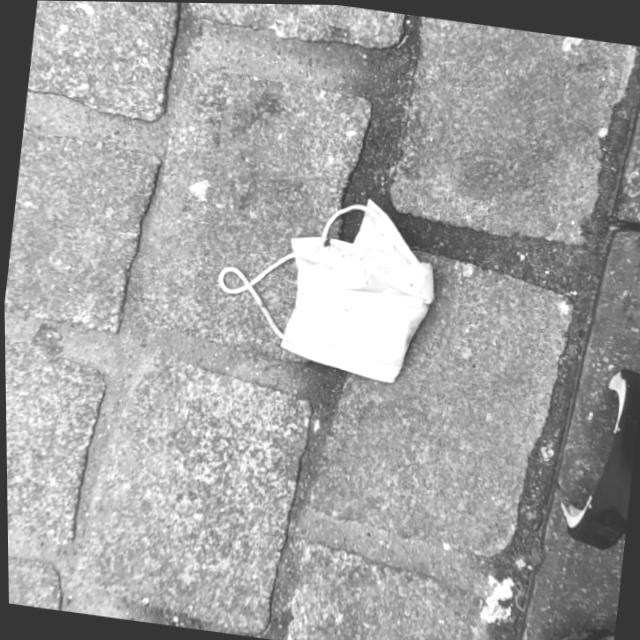Mask: (206, 176, 447, 390)
